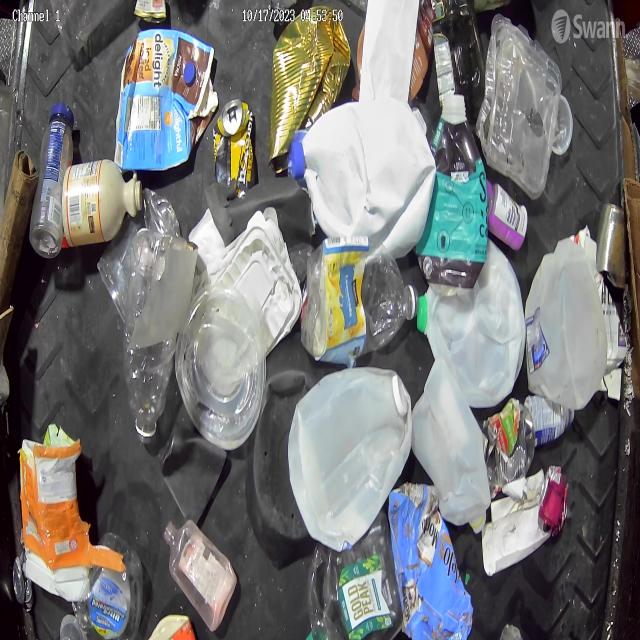can: (267, 7, 351, 176), (484, 402, 536, 489), (213, 97, 255, 202), (596, 200, 628, 290), (12, 551, 33, 613), (134, 0, 167, 24)
milk_jug: (289, 362, 412, 552), (291, 96, 438, 250), (417, 236, 526, 410), (522, 233, 606, 406), (412, 356, 490, 529)
non_white_jug: (114, 27, 222, 177), (389, 482, 472, 638)
